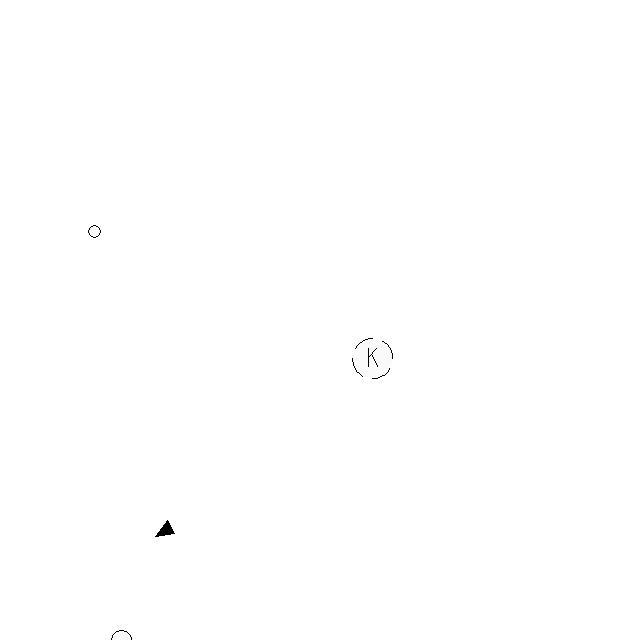Kolodech: (85, 223, 104, 241)
Kyst: (350, 335, 396, 382)
Otmetka: (154, 516, 176, 541)
